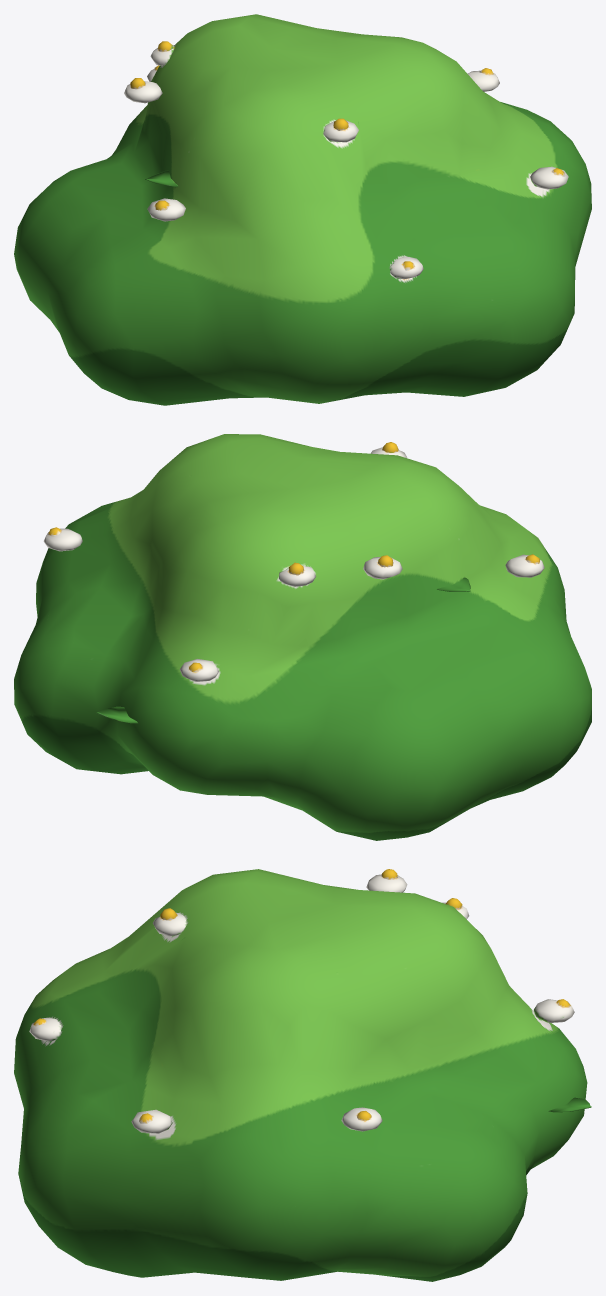
Rendered from Bush.fbx.
The picture shows the model from 3 angles, top to bottom: view 1: azimuth 30°, elevation 25°; view 2: azimuth 150°, elevation 25°; view 3: azimuth 270°, elevation 25°; orthographic projection. The views are drawn at different scales.
Visible parts, largest first — view 1: Bush; view 2: Bush; view 3: Bush.
Boxes of the visible parts, x1,y1,x2,y2 form: Bush: [14, 14, 591, 405]; Bush: [14, 434, 591, 840]; Bush: [14, 869, 591, 1281].
Size of the model in its own units: 2.13 by 1.17 by 1.96.
1 material, 1 textured.
